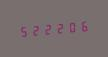five: (17, 23, 28, 39)
six: (78, 17, 89, 33)
two: (29, 22, 40, 38), (42, 21, 53, 37), (54, 20, 65, 36)
zero: (66, 18, 77, 34)
